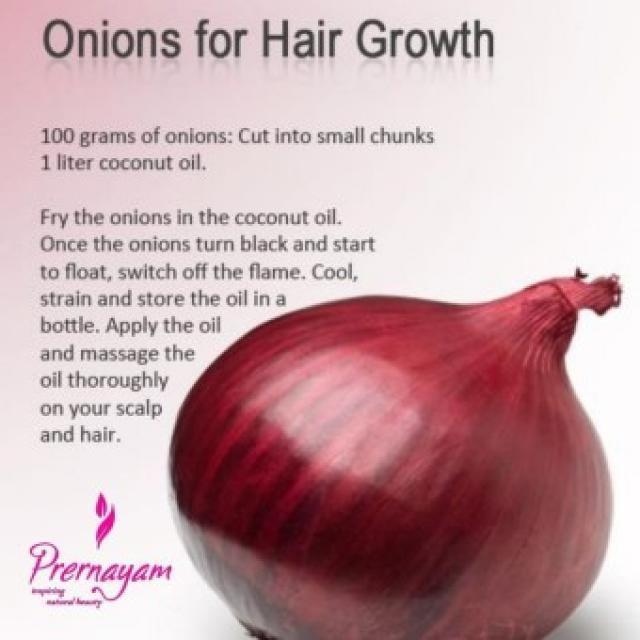onion: (140, 243, 640, 640)
